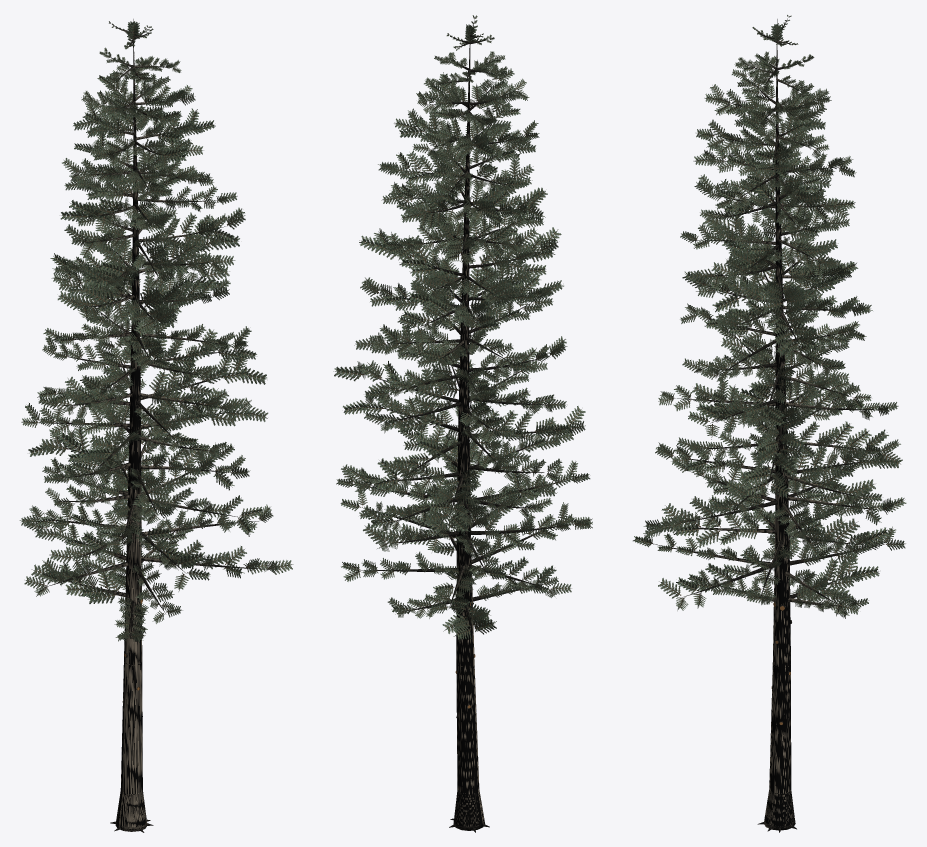
Rendered from Sitka_OldLarge_02_LowPruned_Recent_LOD0.fbx.
3 views of the same model, side by side, from view 1: azimuth 30°, elevation 25°; view 2: azimuth 150°, elevation 25°; view 3: azimuth 270°, elevation 25° (orthographic).
Parts seen in each view (by area): view 1: Sitka_OldLarge_02_LowPruned_Recent_LOD0; view 2: Sitka_OldLarge_02_LowPruned_Recent_LOD0; view 3: Sitka_OldLarge_02_LowPruned_Recent_LOD0.
Boxes of the visible parts, x1,y1,x2,y2 form: Sitka_OldLarge_02_LowPruned_Recent_LOD0: (19, 19, 293, 832); Sitka_OldLarge_02_LowPruned_Recent_LOD0: (333, 15, 592, 832); Sitka_OldLarge_02_LowPruned_Recent_LOD0: (633, 15, 906, 832).
Bounding box in the file's own units: 956 × 3000 × 960.
Materials: 3 (3 with a texture image).
